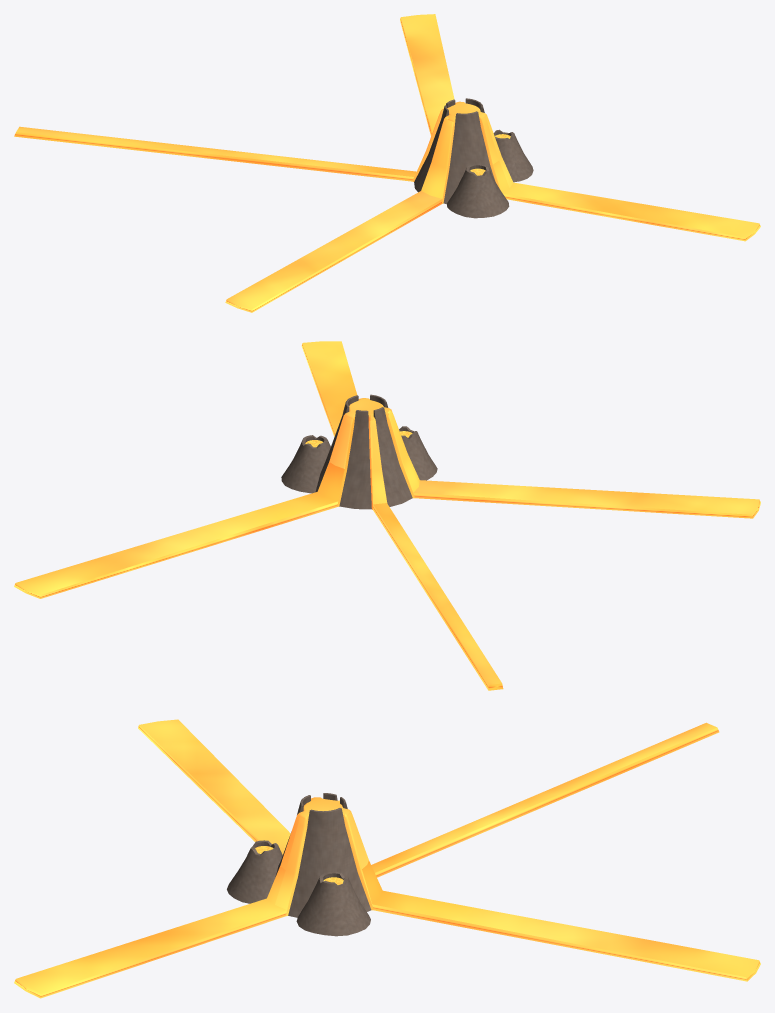
The model's file is vulcano 2.fbx.
3 renders of one model, top to bottom at view 1: azimuth 30°, elevation 25°; view 2: azimuth 150°, elevation 25°; view 3: azimuth 270°, elevation 25°, orthographic. The views are drawn at different scales.
Parts seen in each view (by area): view 1: pCone13; view 2: pCone13; view 3: pCone13.
Boxes of the visible parts, x1,y1,x2,y2 form: pCone13: (14,14,760,312); pCone13: (14,341,760,690); pCone13: (14,719,760,998).
Bounding box in the file's own units: 34.28 × 5.43 × 38.93.
